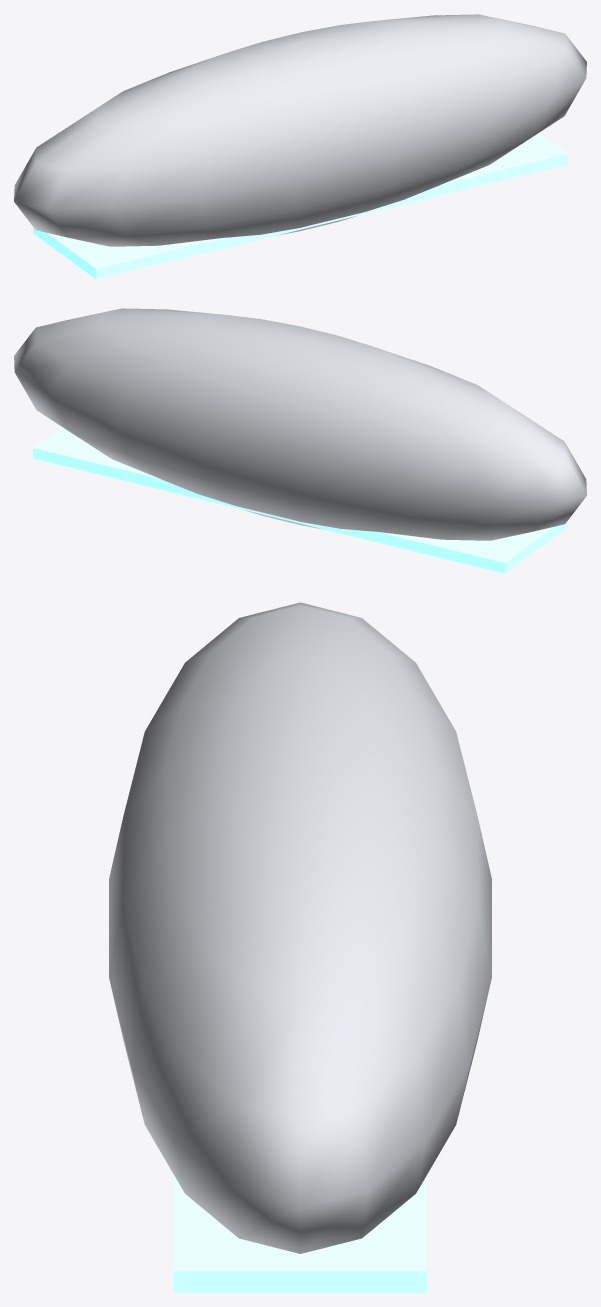
The model's file is truck_2042.glb.
3 views of the same model, one above another, from view 1: azimuth 30°, elevation 25°; view 2: azimuth 150°, elevation 25°; view 3: azimuth 270°, elevation 25° (orthographic). The views are drawn at different scales.
Parts seen in each view (by area): view 1: Hauler, Glow; view 2: Hauler, Glow; view 3: Hauler, Glow.
Boxes of the visible parts, <box> form: Hauler: <box>14,14,586,246</box>; Glow: <box>33,133,567,279</box>; Hauler: <box>14,308,586,540</box>; Glow: <box>33,427,567,573</box>; Hauler: <box>109,602,491,1253</box>; Glow: <box>174,1175,426,1292</box>.
Size of the model in its own units: 0.68 by 0.2 by 0.197.
